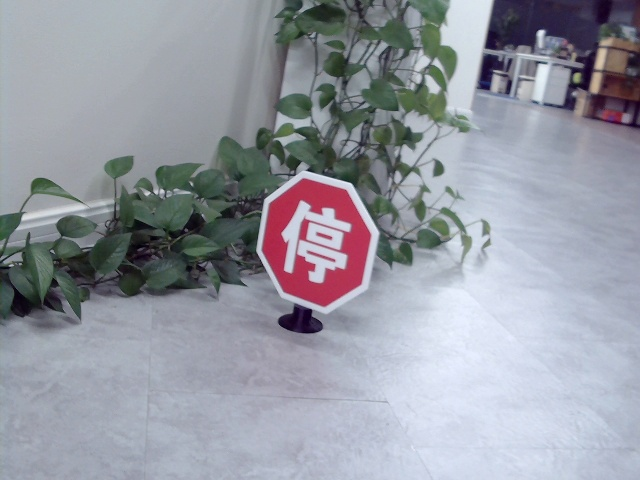stop: (278, 199, 349, 281)
